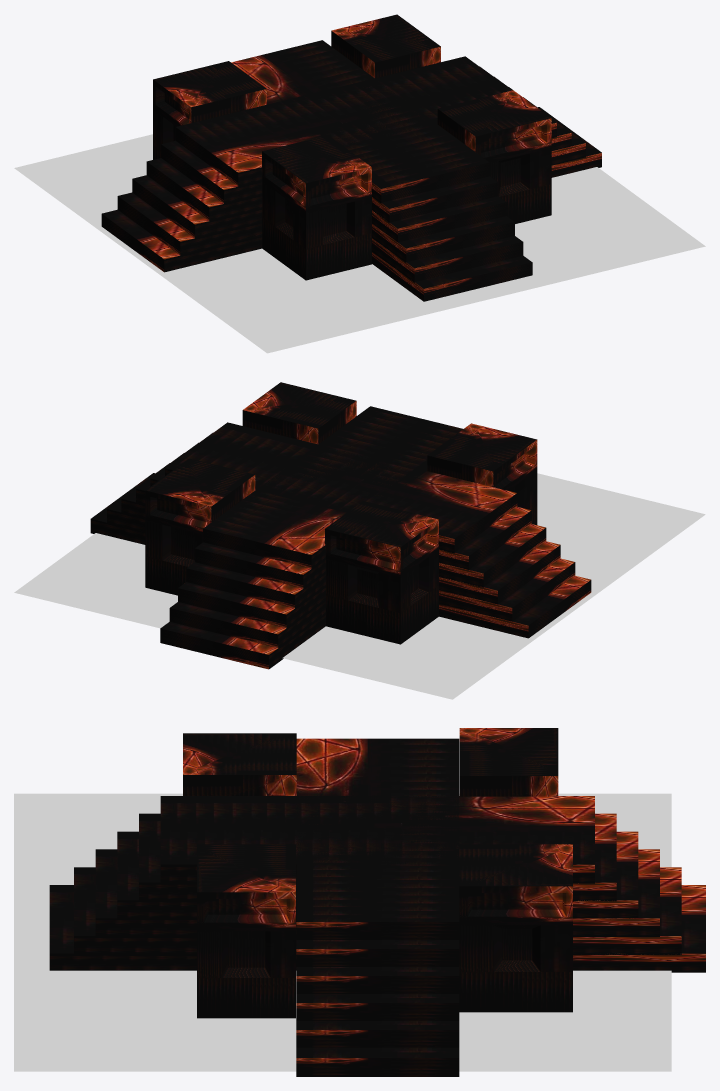
Rendered from buky altar.FBX.
3 renders of one model, top to bottom at view 1: azimuth 30°, elevation 25°; view 2: azimuth 150°, elevation 25°; view 3: azimuth 270°, elevation 25°, orthographic. The views are drawn at different scales.
Visible parts, largest first — view 1: Box001, Plane001; view 2: Box001, Plane001; view 3: Box001, Plane001.
Boxes of the visible parts, x1=… form: Box001: x1=101, y1=14, x2=601, y2=301; Plane001: x1=14, y1=134, x2=705, y2=353; Box001: x1=90, y1=382, x2=591, y2=669; Plane001: x1=14, y1=425, x2=705, y2=699; Box001: x1=49, y1=728, x2=705, y2=1076; Plane001: x1=14, y1=793, x2=671, y2=1071.
Size of the model in its own units: 60.68 by 12.92 by 63.14.
